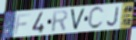4: (31, 11, 46, 35)
C: (87, 6, 105, 31)
F: (13, 13, 33, 36)
J: (106, 6, 120, 27)
R: (51, 10, 69, 33)
V: (69, 7, 87, 31)
